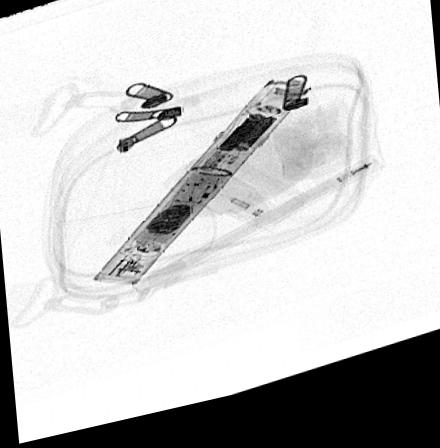Baton: (92, 89, 314, 293)
